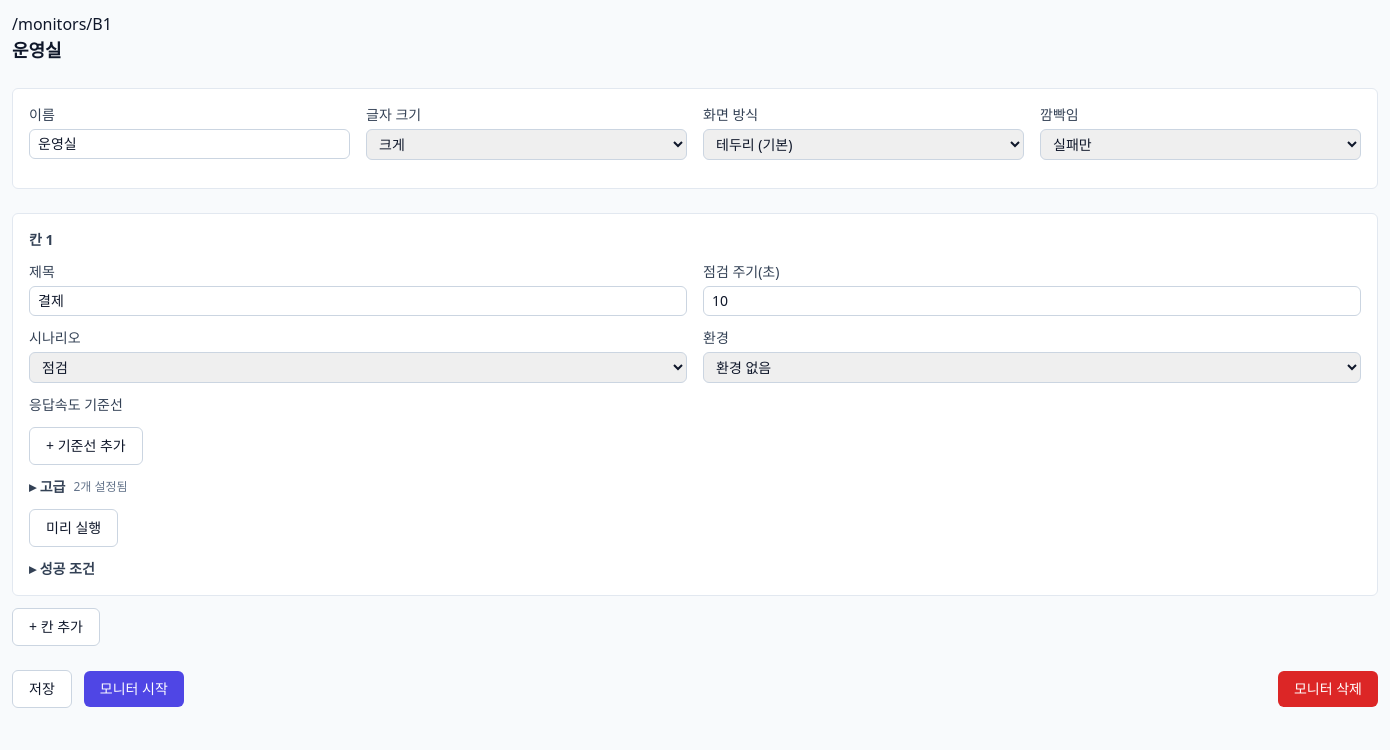
Test case: MonitorEditPage › advanced_collapsed_with_count_hint
The width and height of the screenshot is (1390, 750).
Expected: the field labelled "제한 시간(초)" is not shown
Step 1. Click the button "▸ 고급" → [47, 487], box [29,477,65,497]
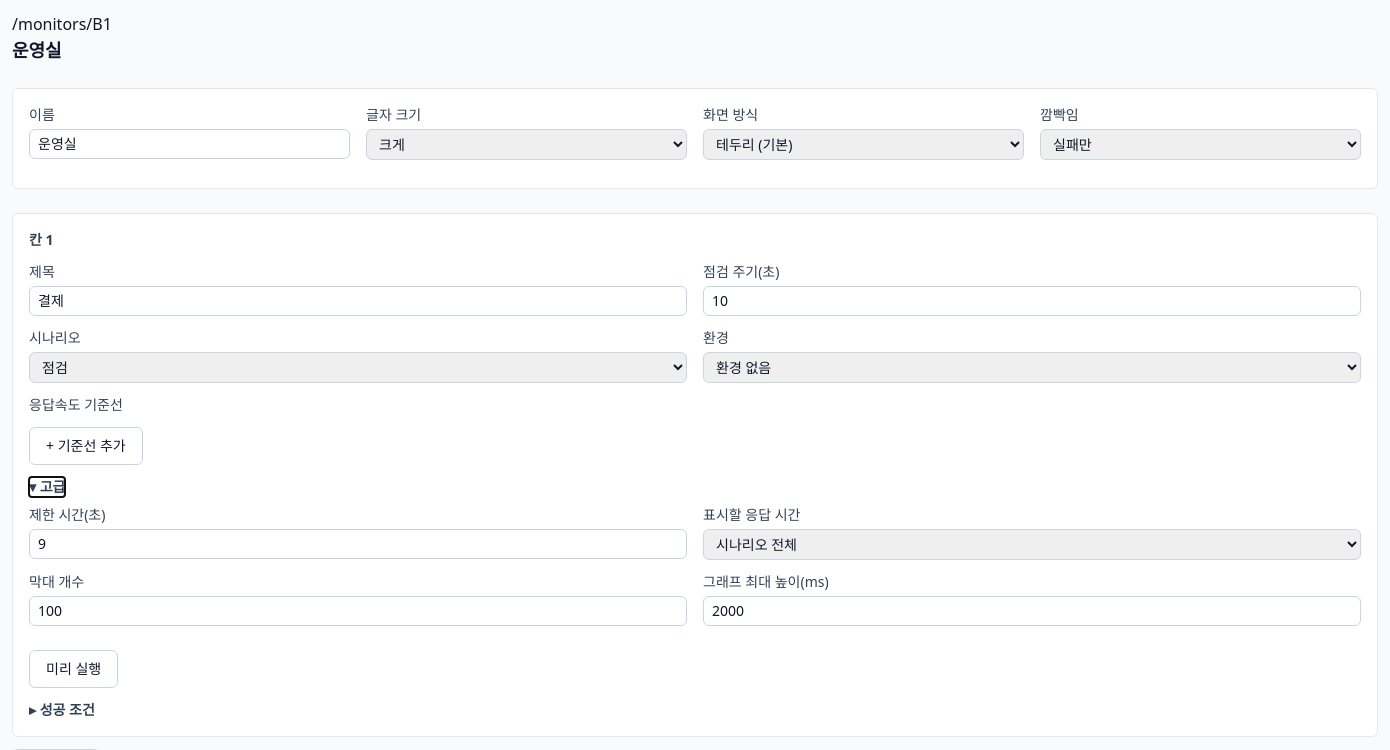
Now the number field labelled "제한 시간(초)" holds "9", box [29,529,687,559]
Now the number field labelled "막대 개수" holds "100", box [29,596,687,626]
